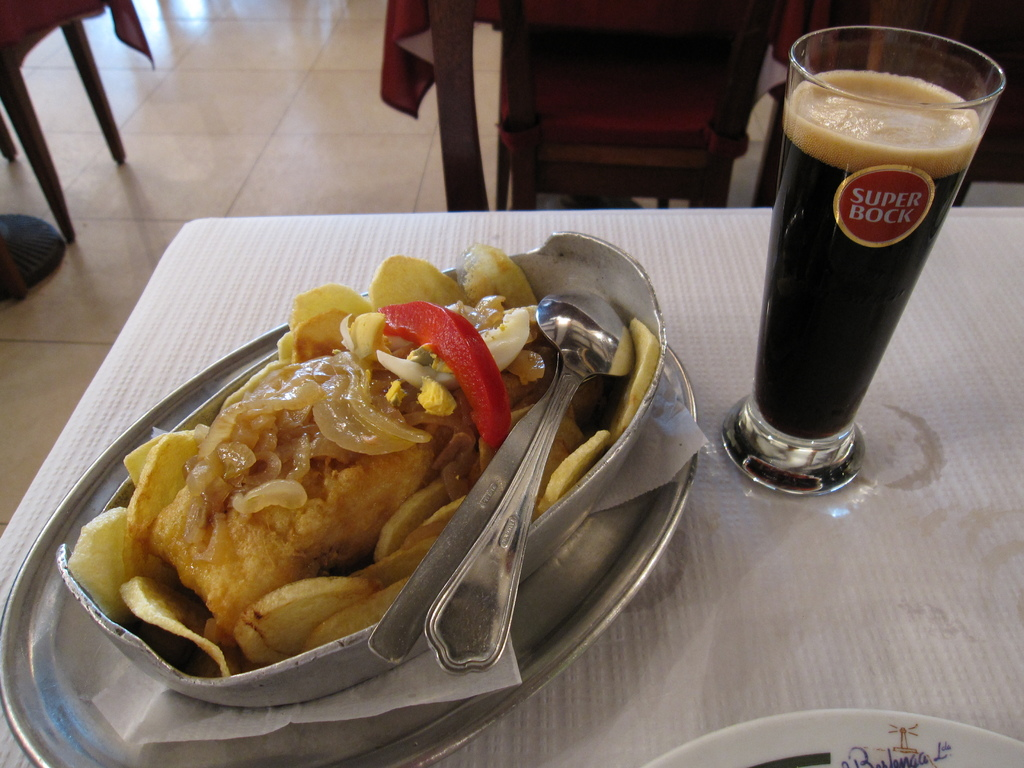French fries: (104, 302, 494, 675)
